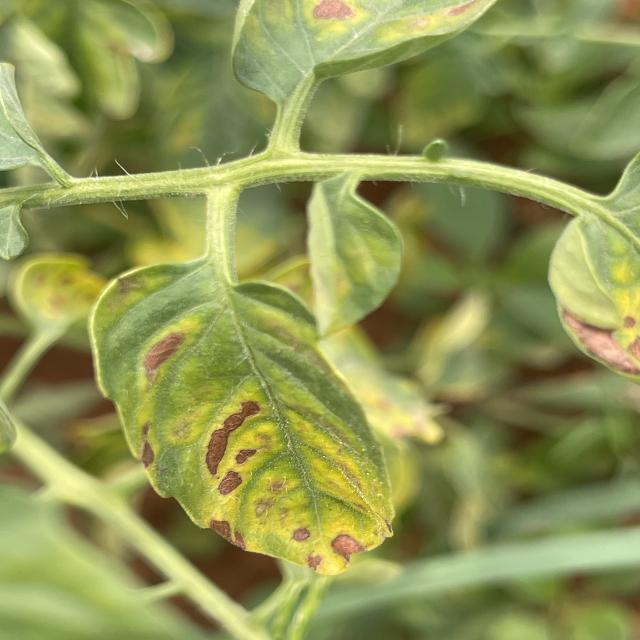tomato_early blight: (91, 257, 398, 575), (233, 0, 502, 120), (540, 161, 640, 384), (301, 164, 404, 328), (15, 251, 125, 336)
